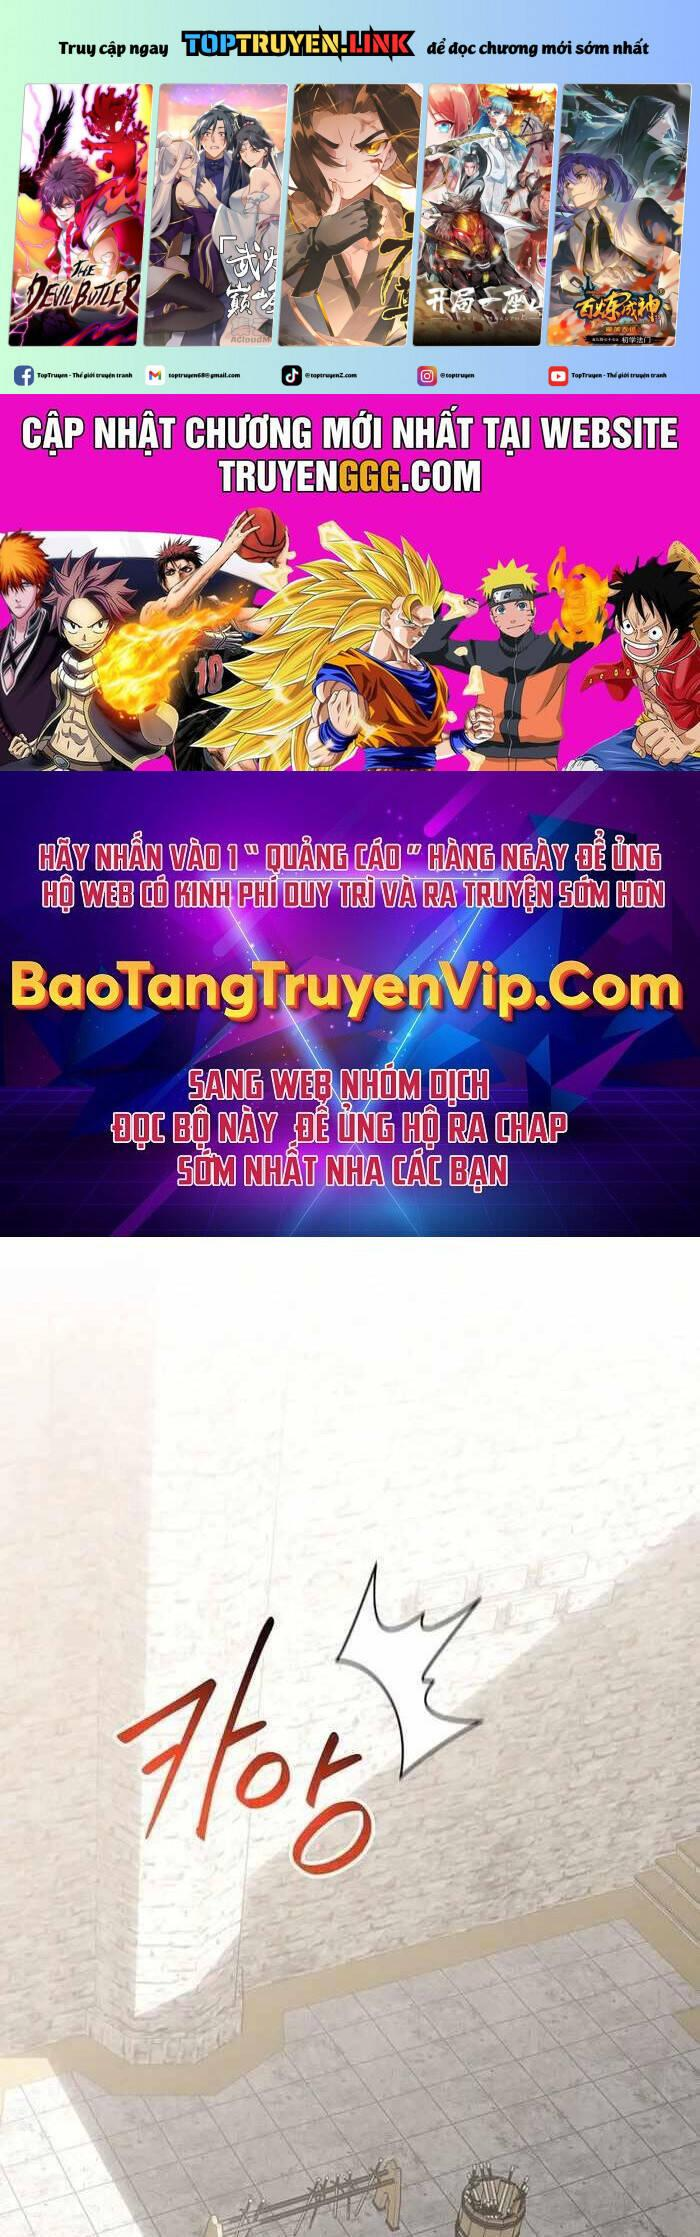quangcao: (0, 0, 700, 1244)
